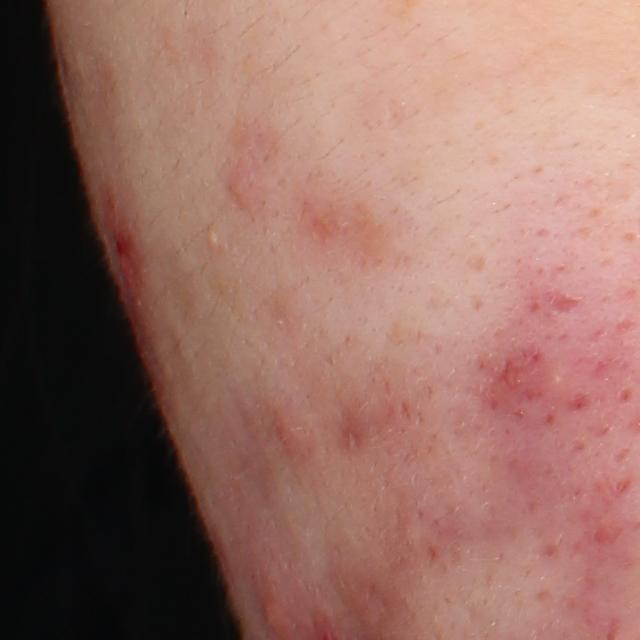atrophic_scar: (547, 288, 579, 313)
comedo: (203, 222, 228, 256)
papule: (476, 328, 549, 419), (226, 144, 272, 217), (271, 406, 306, 460)
